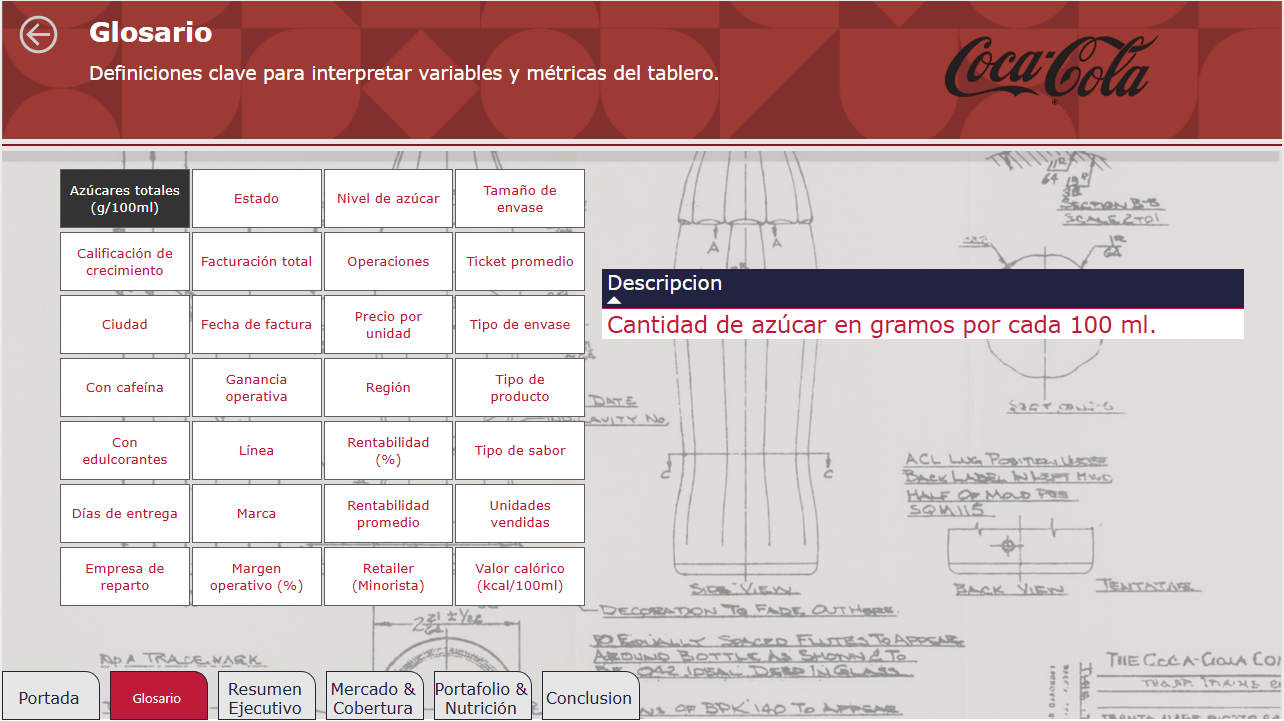

The dashboard page shown, as its layout file describes it:
{"tool":"powerbi","page":{"name":"Glosario","canvas":[1280,720],"ordinal":1},"visuals":[{"type":"shape","box":[0,137.8,1279.5,12.1],"z":0},{"type":"shape","box":[0,137.5,1280.4,12.5],"z":1000},{"type":"slicer","fields":{"Values":["Glosario.Termino"]},"box":[31.8,160.5,575.4,451.2],"z":2000},{"type":"tableEx","fields":{"Values":["Glosario.Descripcion"]},"box":[593.6,263.5,654.1,112.1],"z":3000},{"type":"textbox","box":[81.8,9.1,296.8,45.4],"z":4000},{"type":"actionButton","box":[12.4,9.3,73.1,48.2],"z":5000},{"type":"textbox","box":[81.8,54.5,678.4,33.3],"z":6000},{"type":"pageNavigator","box":[0,670.2,640.7,48.5],"z":7000},{"type":"image","box":[819.9,0,459.5,122.2],"z":8000}]}

Visuals, with their boxes in screenshot pixels (x1, y1, x2, y2), scaled from the page's 1280x720 canvas onto the 1284x721 screenshot:
shape: select_region(0, 138, 1283, 150)
shape: select_region(0, 138, 1283, 150)
slicer - Glosario.Termino: select_region(32, 161, 609, 613)
tableEx - Glosario.Descripcion: select_region(595, 264, 1252, 376)
textbox: select_region(82, 9, 380, 55)
actionButton: select_region(12, 9, 86, 58)
textbox: select_region(82, 55, 763, 88)
pageNavigator: select_region(0, 671, 643, 720)
image: select_region(822, 0, 1283, 122)
